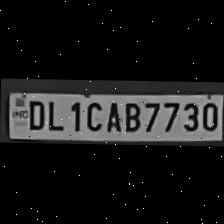0: (198, 99, 218, 130)
1: (64, 98, 82, 132)
3: (178, 99, 200, 132)
7: (158, 98, 178, 132), (140, 98, 160, 131)
A: (102, 99, 122, 134)
B: (120, 98, 140, 132)
C: (81, 98, 103, 132)
D: (23, 96, 45, 129)
L: (44, 96, 64, 130)
